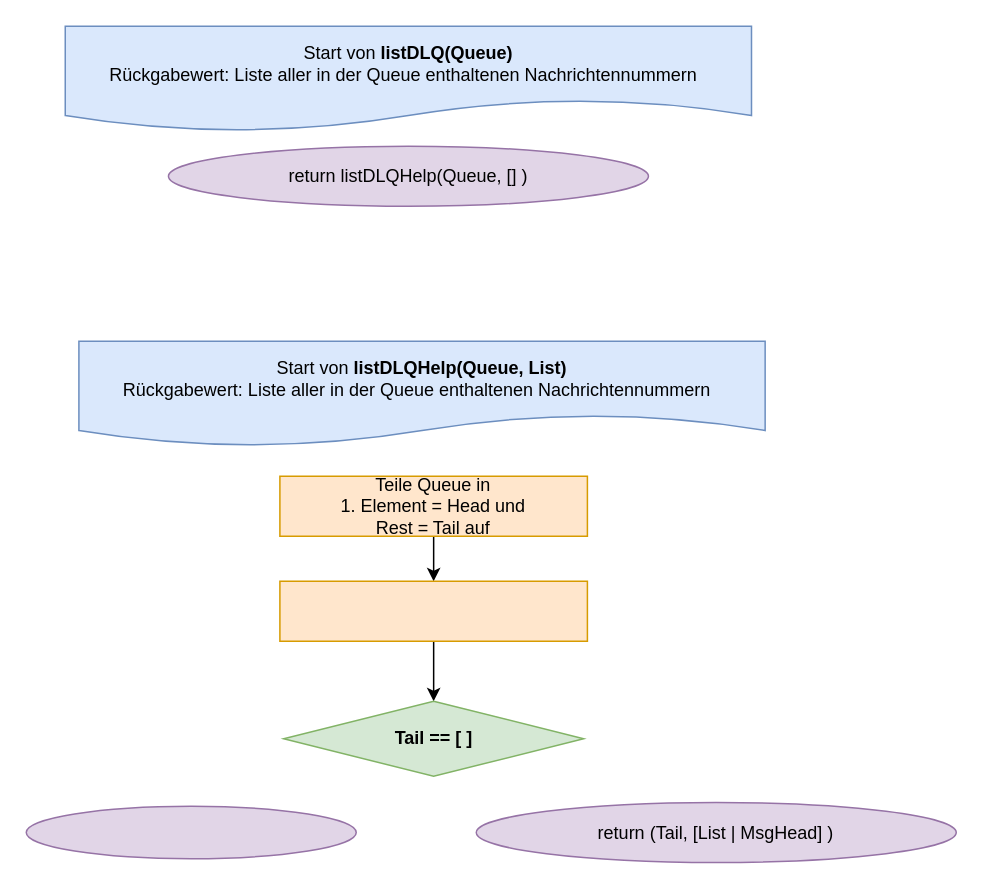
The diagram is 983 pixels wide and 890 high, and some of its shapes have lost their labels. The centre of each missing label's shape, as x and y in pixels:
"return List" belongs at pixel 190 832.
"Teile Head in 1. Element = MsgHead und Rest = MsgTail auf" belongs at pixel 432 610.
